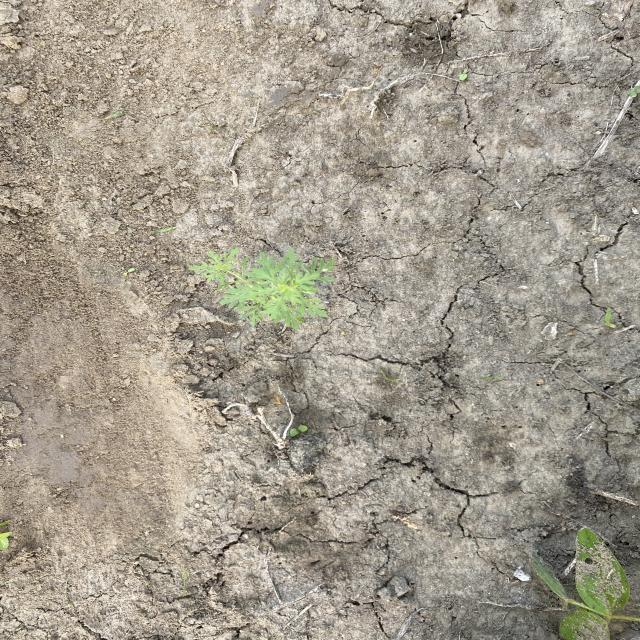Ragweed: (187, 246, 339, 332)
